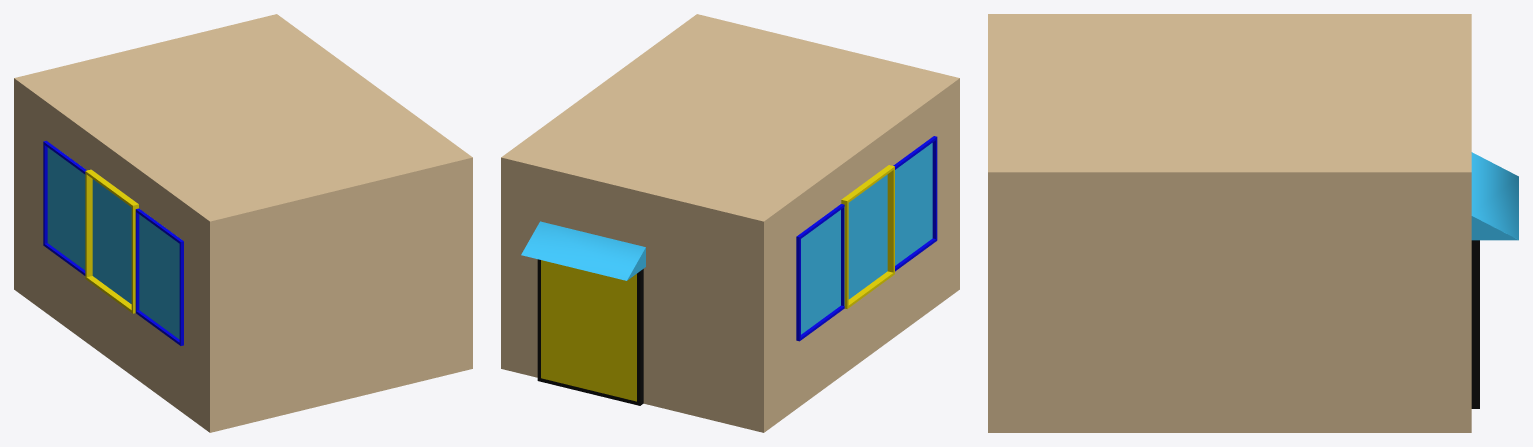
Rendered from office.FBX.
3 renders of one model, left to right at view 1: azimuth 30°, elevation 25°; view 2: azimuth 150°, elevation 25°; view 3: azimuth 270°, elevation 25°, orthographic. The views are drawn at different scales.
Parts seen in each view (by area): view 1: ChamferBox001, ChamferBox003, ChamferBox008, ChamferBox004; view 2: ChamferBox001, ChamferBox006, ChamferBox003, ChamferBox004, ChamferBox008, ChamferBox007; view 3: ChamferBox001, ChamferBox007, ChamferBox006.
Part boxes in pixels (box(x1,y1,x2,y2)): ChamferBox001: box(14, 14, 472, 432); ChamferBox003: box(85, 169, 138, 313); ChamferBox008: box(135, 208, 183, 345); ChamferBox004: box(43, 140, 86, 275); ChamferBox001: box(501, 14, 959, 432); ChamferBox006: box(537, 259, 643, 405); ChamferBox003: box(841, 165, 894, 308); ChamferBox004: box(796, 204, 844, 341); ChamferBox008: box(893, 136, 937, 271); ChamferBox007: box(521, 221, 645, 280); ChamferBox001: box(988, 14, 1471, 432); ChamferBox007: box(1471, 152, 1518, 240); ChamferBox006: box(1471, 240, 1479, 408).
Size of the model in its own units: 87.7 by 65.87 by 122.
